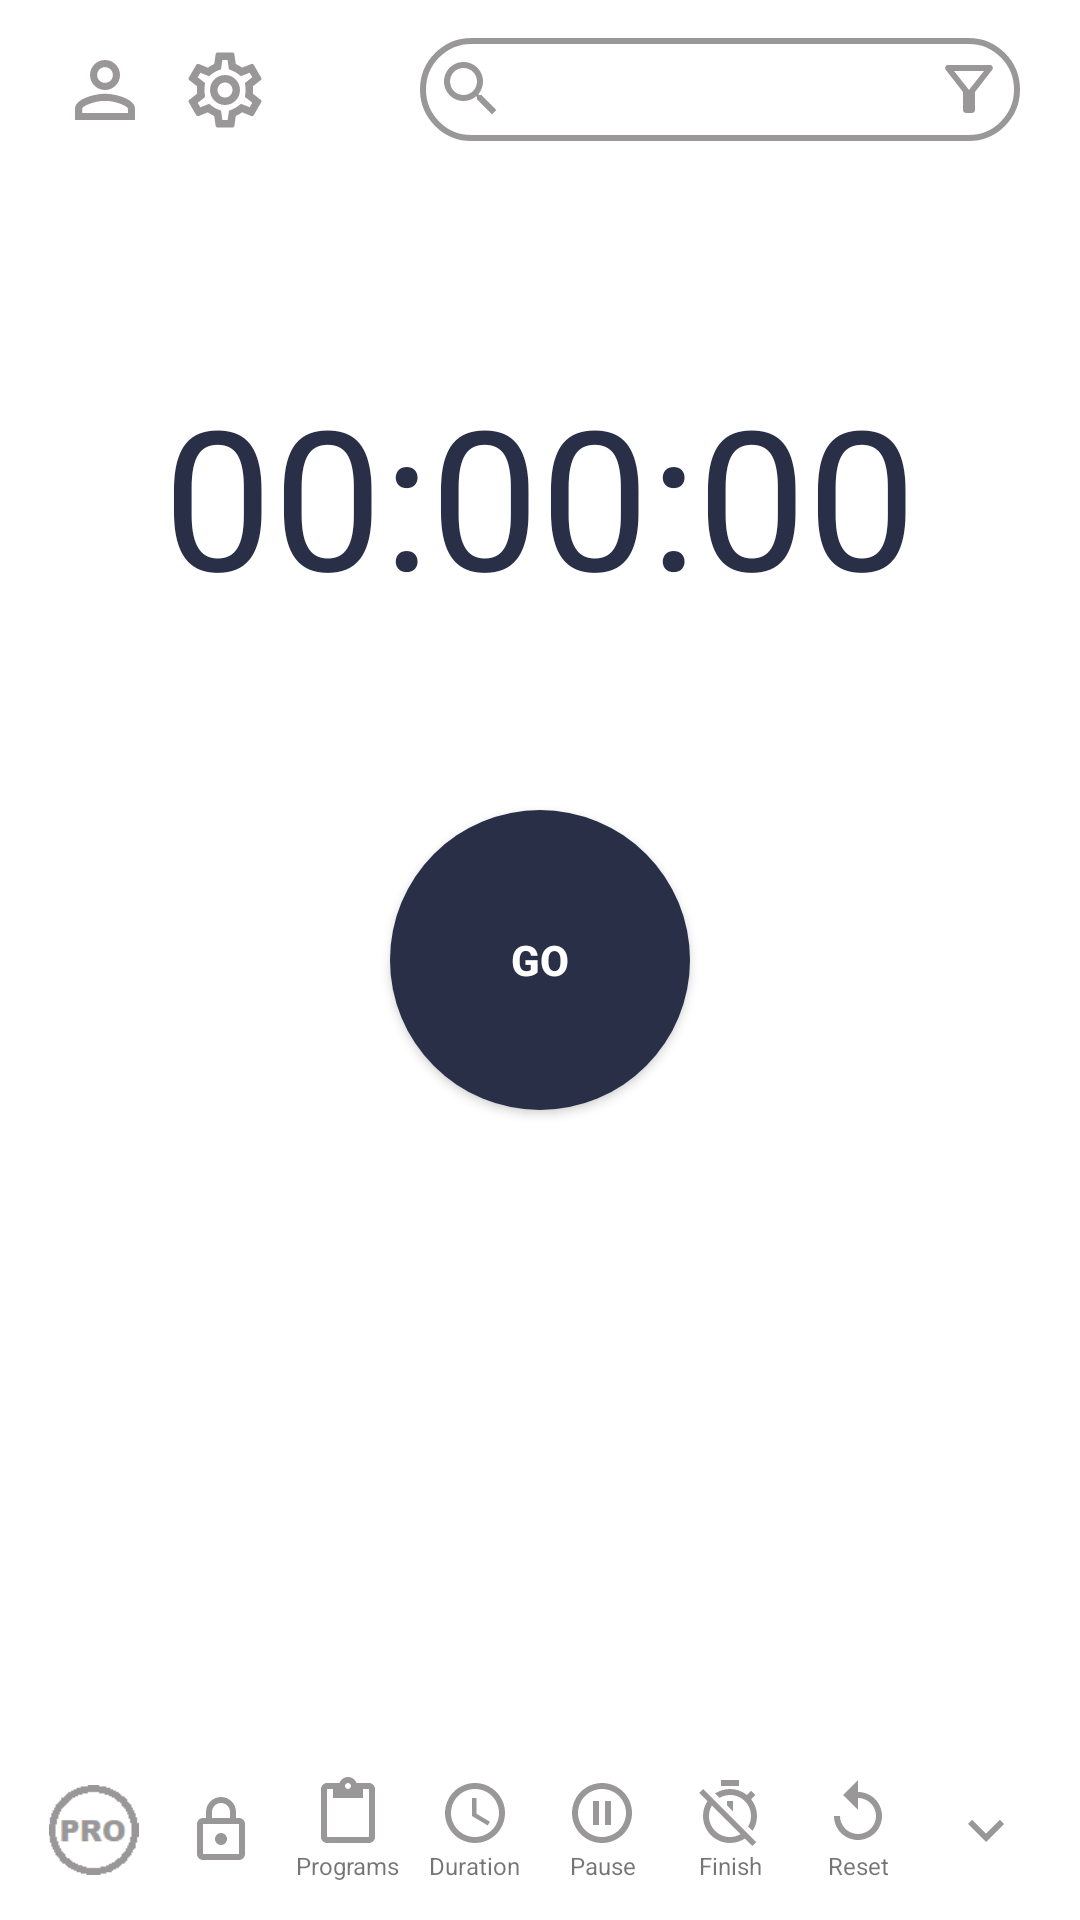

Where to tap for icons on this 1080w x 1920h app screen, as (x=x, y=y):
access time: (x=475, y=1813)
content paste: (x=348, y=1810)
keyboard arrow down: (x=986, y=1831)
lock: (x=221, y=1828)
person: (x=105, y=90)
replay: (x=858, y=1810)
settings: (x=225, y=90)
timer off: (x=728, y=1813)
